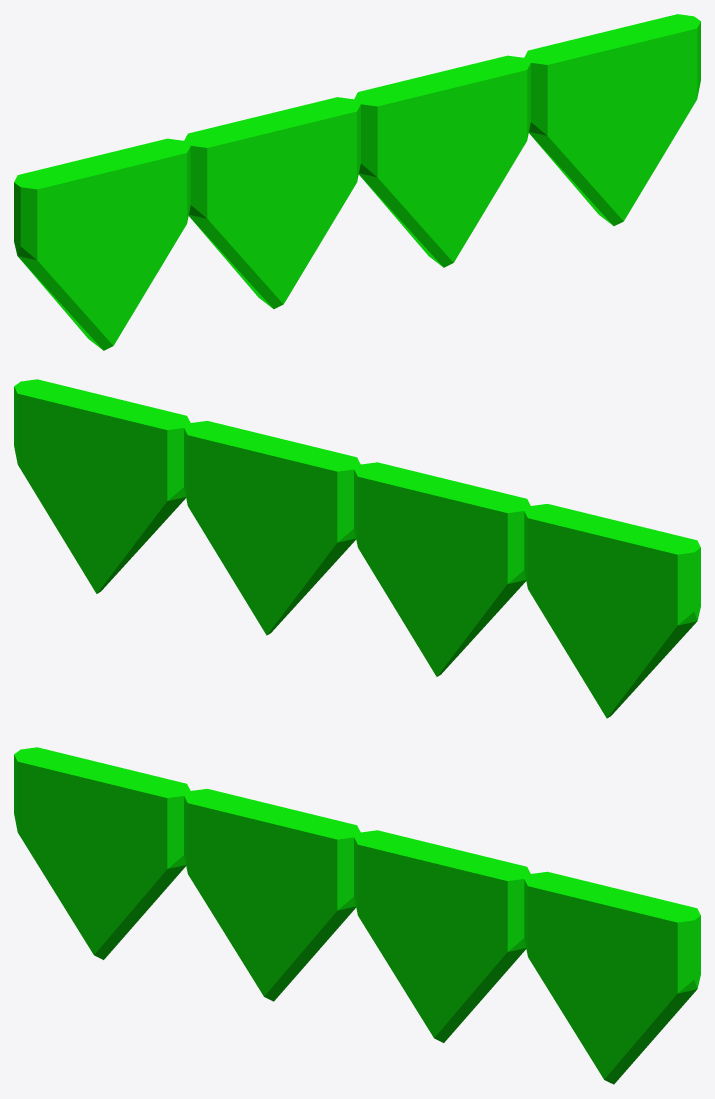
File: SM_Wall_Deco_Wood_Rim_C.fbx
3 views of the same model, one above another, from view 1: azimuth 30°, elevation 25°; view 2: azimuth 150°, elevation 25°; view 3: azimuth 330°, elevation 25° (orthographic).
Visible parts, largest first — view 1: wall-deco-wood-rim-c; view 2: wall-deco-wood-rim-c; view 3: wall-deco-wood-rim-c.
Boxes of the visible parts, x1,y1,x2,y2 form: wall-deco-wood-rim-c: (14,14,700,350); wall-deco-wood-rim-c: (14,379,700,718); wall-deco-wood-rim-c: (14,747,700,1084).
Bounding box in the file's own units: 0.9999 × 0.2629 × 0.05.
